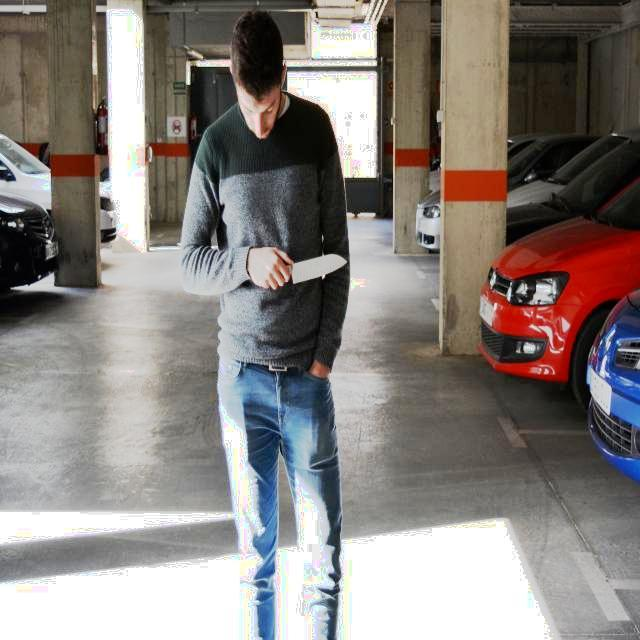Knife: (282, 247, 352, 286)
